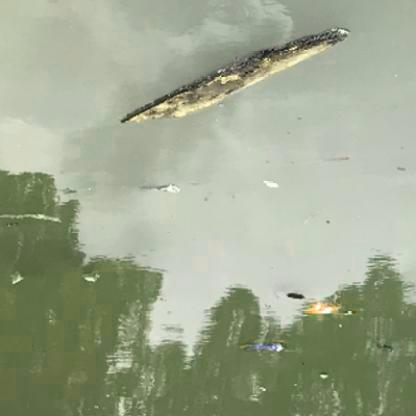Trash: (297, 298, 350, 328), (239, 340, 291, 359)
